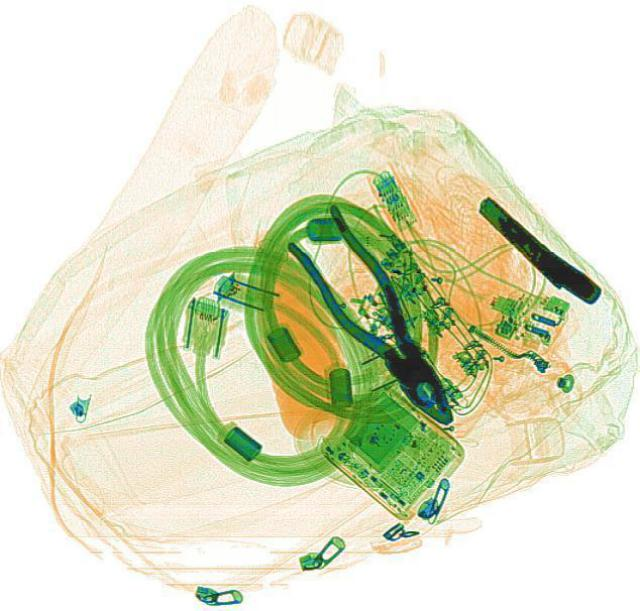Gun: (466, 191, 604, 308)
Pliers: (272, 200, 478, 439)
